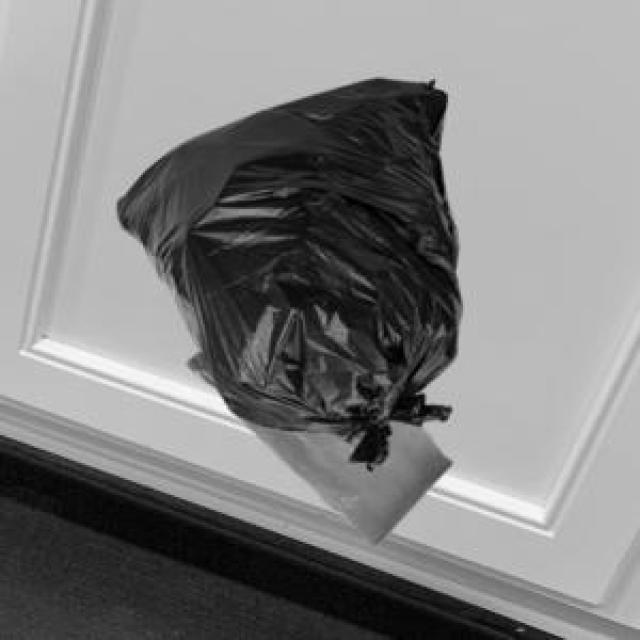miscellaneous trash: (113, 75, 457, 467)
